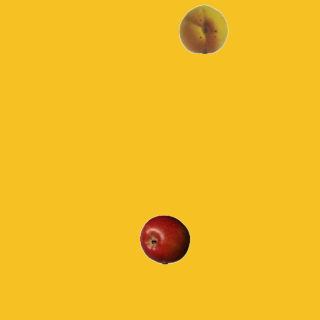Apple Braeburn: (139, 214, 189, 264)
Peach 2: (178, 3, 228, 53)
